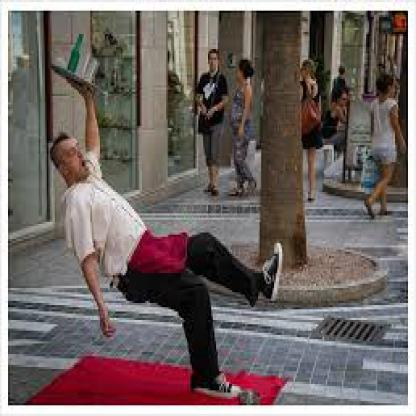Fall_Down: (50, 74, 286, 400)
